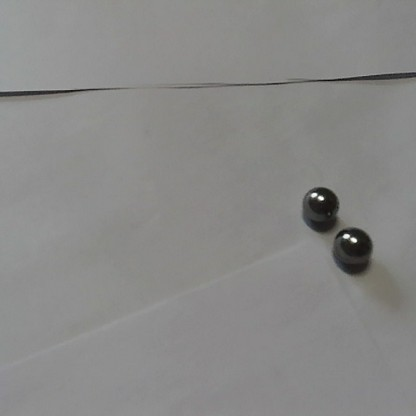ironball: (331, 224, 376, 275), (301, 184, 339, 227)
